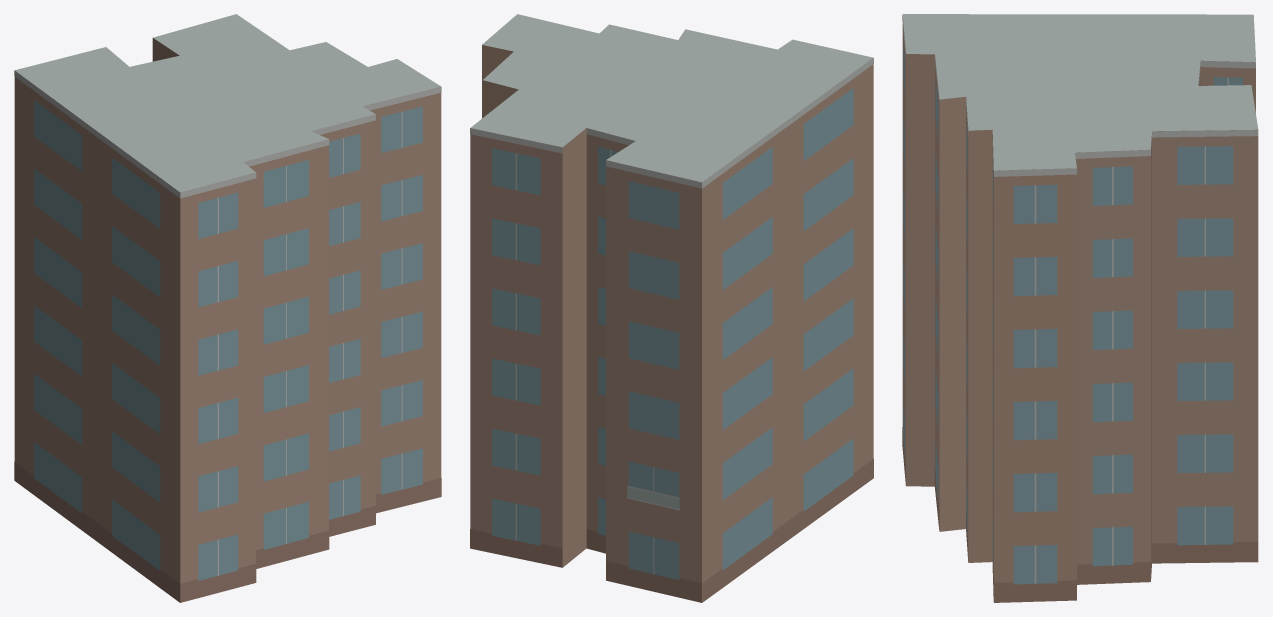
Rendered from survey-upis-32581171.glb.
3 views of the same model, side by side, from view 1: azimuth 30°, elevation 25°; view 2: azimuth 150°, elevation 25°; view 3: azimuth 270°, elevation 25° (orthographic). The views are drawn at different scales.
Parts seen in each view (by area): view 1: survey-upis-32581171.tmp; view 2: survey-upis-32581171.tmp; view 3: survey-upis-32581171.tmp.
Boxes of the visible parts, x1,y1,x2,y2 form: survey-upis-32581171.tmp: (14,14,441,602); survey-upis-32581171.tmp: (470,14,873,602); survey-upis-32581171.tmp: (902,14,1258,602).
Bounding box in the file's own units: 12.9 × 16.6 × 12.39.
